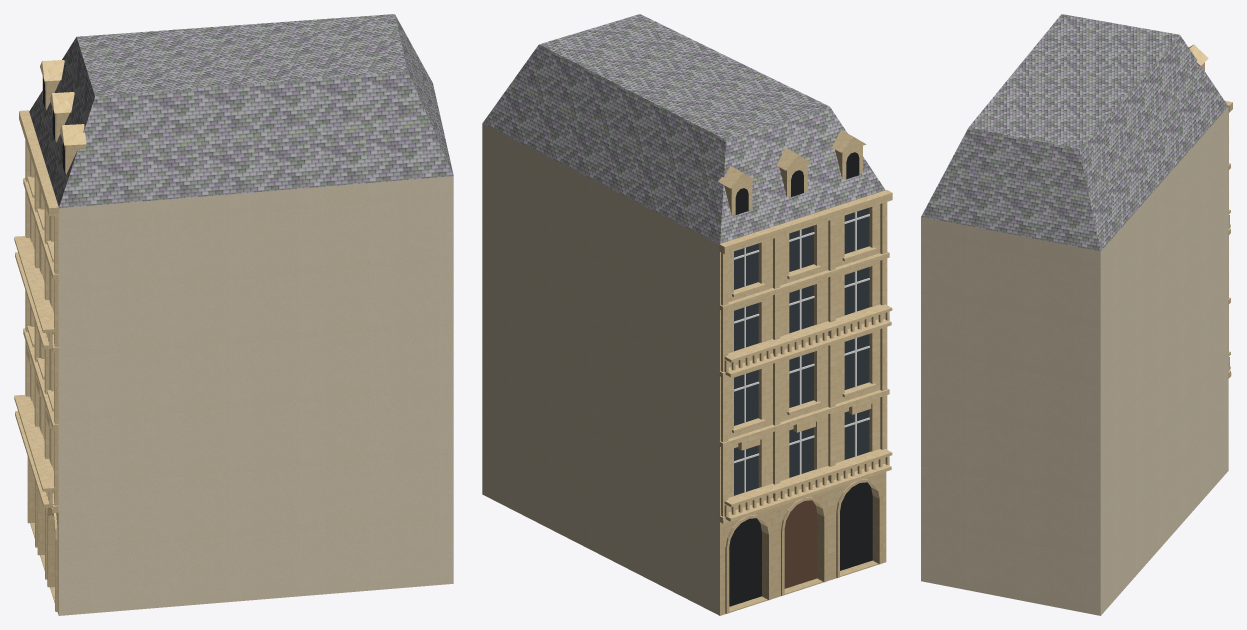
3 renders of one model, left to right at view 1: azimuth 30°, elevation 25°; view 2: azimuth 150°, elevation 25°; view 3: azimuth 270°, elevation 25°, orthographic. The views are drawn at different scales.
Parts seen in each view (by area): view 1: bldg_497130595_landmark; view 2: bldg_497130595_landmark; view 3: bldg_497130595_landmark.
Boxes of the visible parts, box(x1,y1,x2,y2) form: bldg_497130595_landmark: box(14, 14, 453, 615); bldg_497130595_landmark: box(482, 14, 892, 615); bldg_497130595_landmark: box(921, 14, 1232, 615).
Bounding box in the file's own units: 20.48 × 23.2 × 14.73.
Materials: 8 (4 with a texture image).
